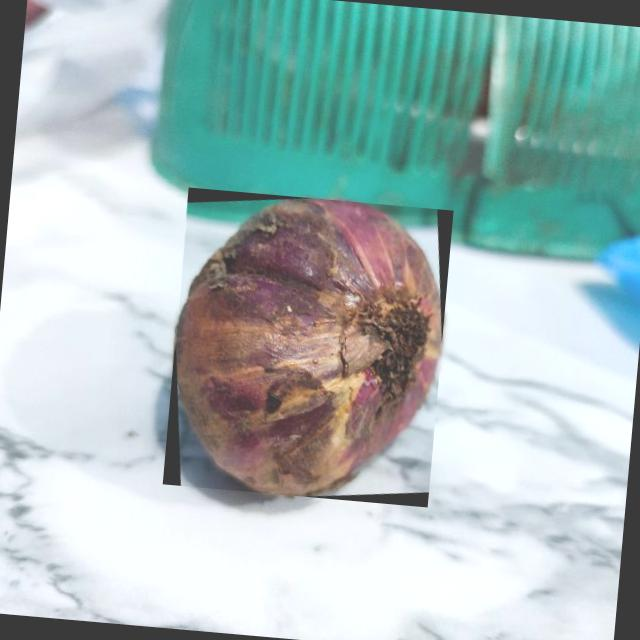rotten: (175, 198, 440, 495)
